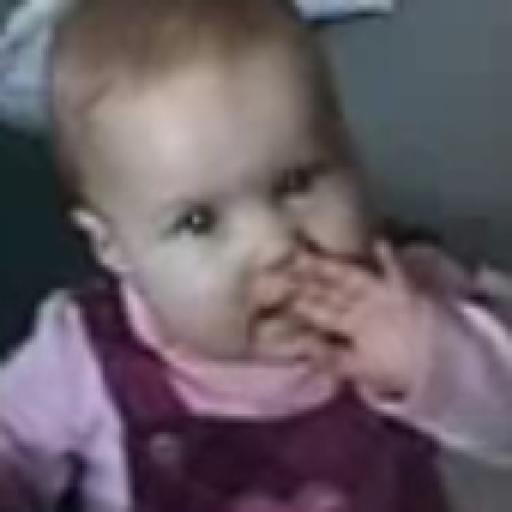Autism: (36, 0, 404, 414)
